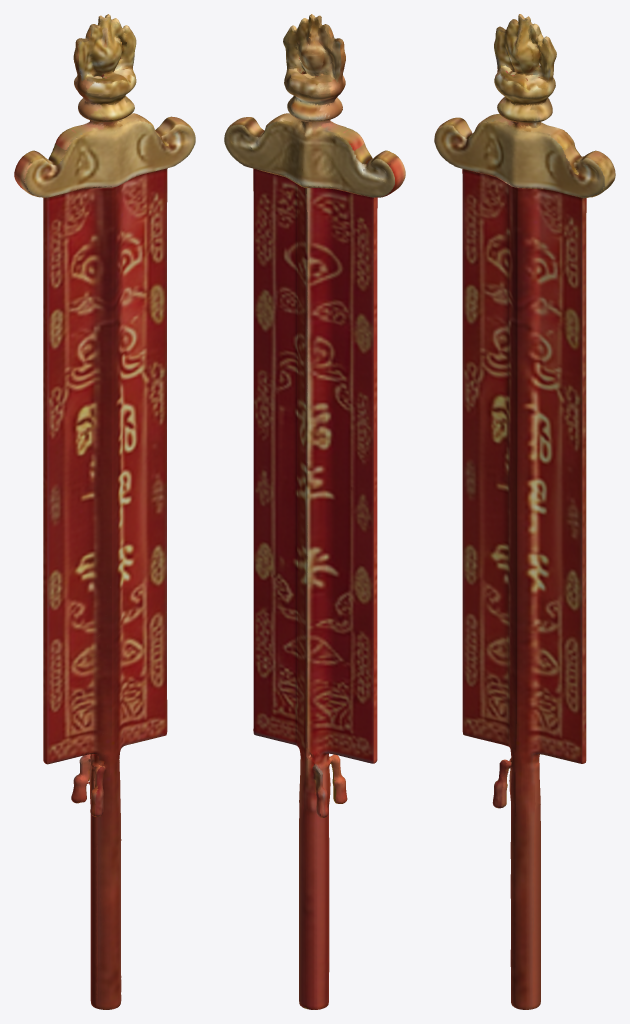
The model's file is sutra-pole.glb.
The picture shows the model from 3 angles, left to right: view 1: azimuth 30°, elevation 25°; view 2: azimuth 150°, elevation 25°; view 3: azimuth 330°, elevation 25°; orthographic projection.
Parts seen in each view (by area): view 1: geometry_0; view 2: geometry_0; view 3: geometry_0.
Part boxes in pixels (x1=…): geometry_0: x1=14, y1=14, x2=195, y2=1009; geometry_0: x1=224, y1=14, x2=405, y2=1009; geometry_0: x1=434, y1=14, x2=615, y2=1009.
Size of the model in its own units: 0.2202 by 1.2 by 0.0599.
Materials: 1 (1 with a texture image).
